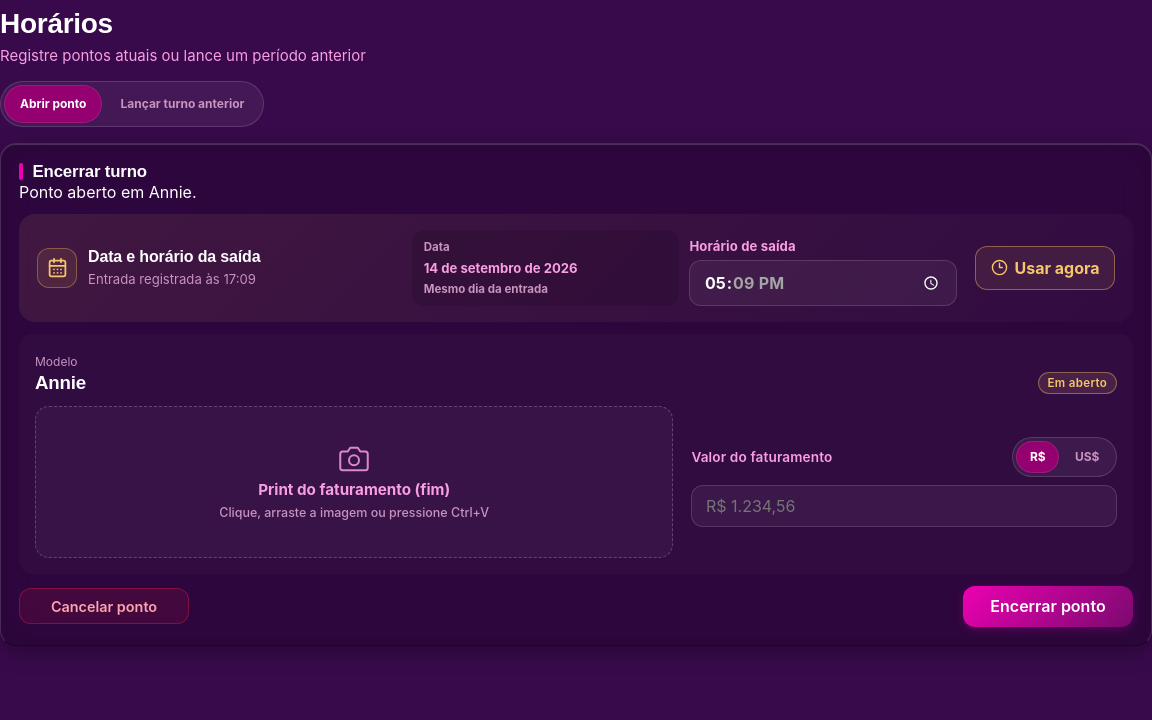
ShiftsPage › restaura o valor inicial e só mostra a justificativa quando o saldo fica negativo
expect the heading "Encerrar turno" is shown: met, box left=33, top=162, right=147, bottom=181
expect the field labelled "Justificativa para saldo negativo" is not shown: met
In the field named "Valor do faturamento": (904, 506) left=691, top=485, right=1117, bottom=527, type "50,00"
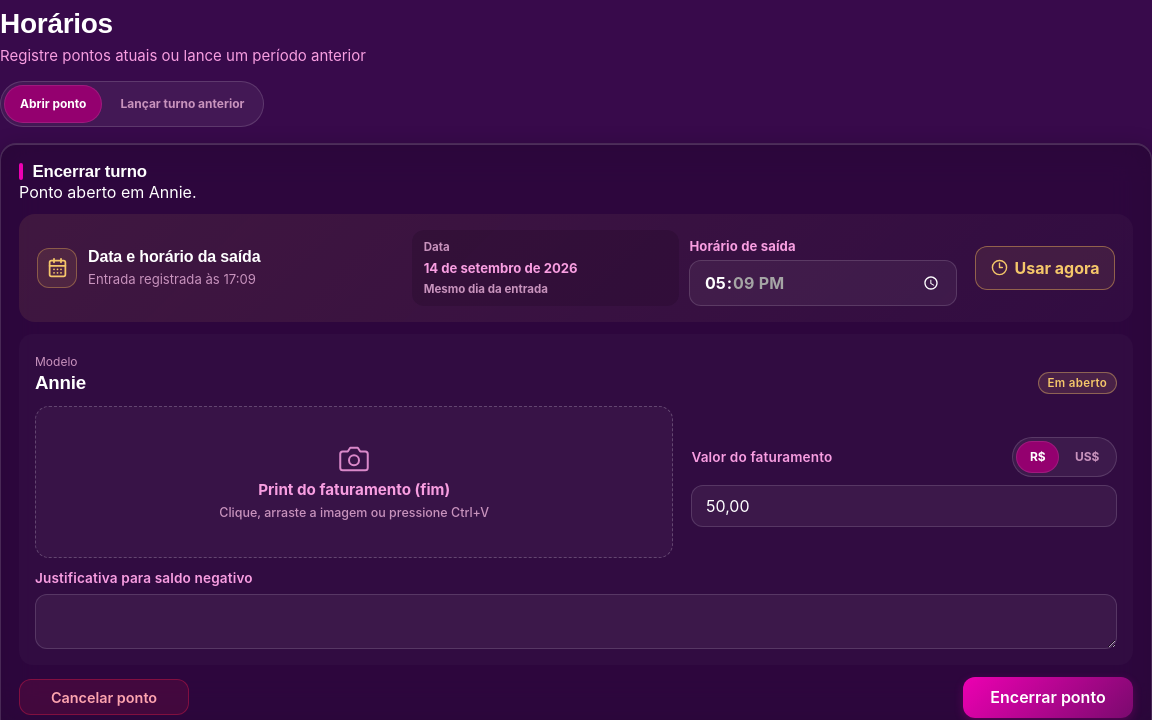
Replace the text in the field named "Valor do faturamento" with "150,00": (904, 506) left=691, top=485, right=1117, bottom=527
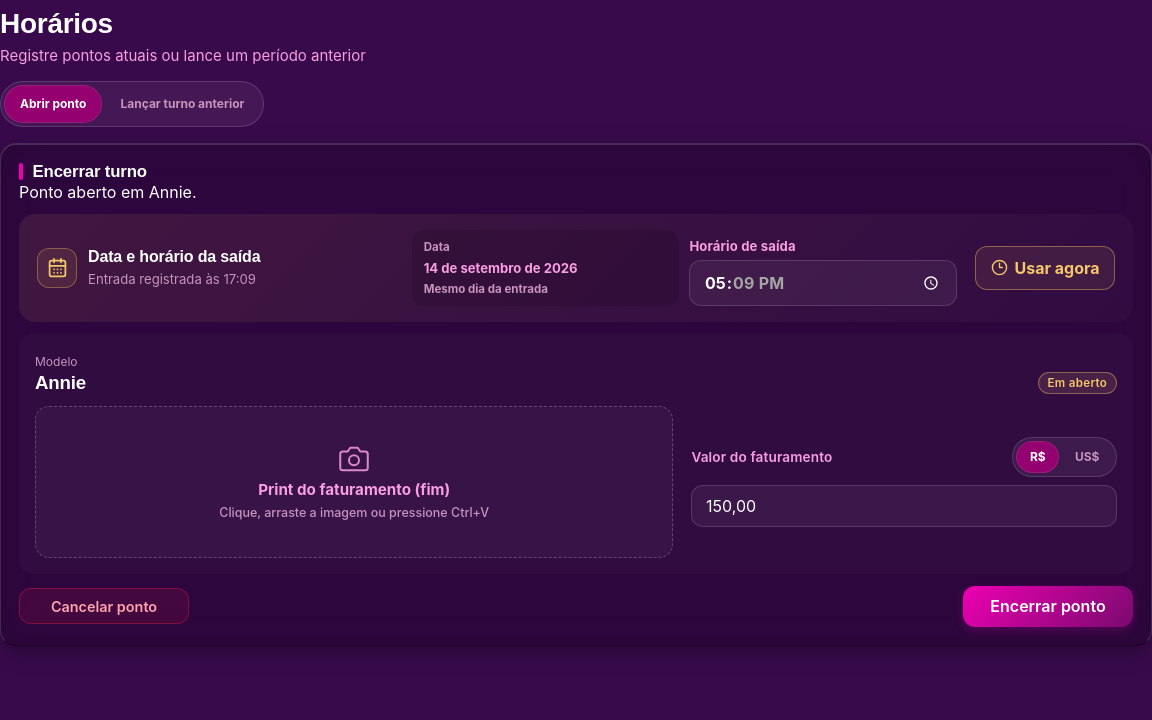
expect the label labelled "Justificativa para saldo negativo" is gone: met
